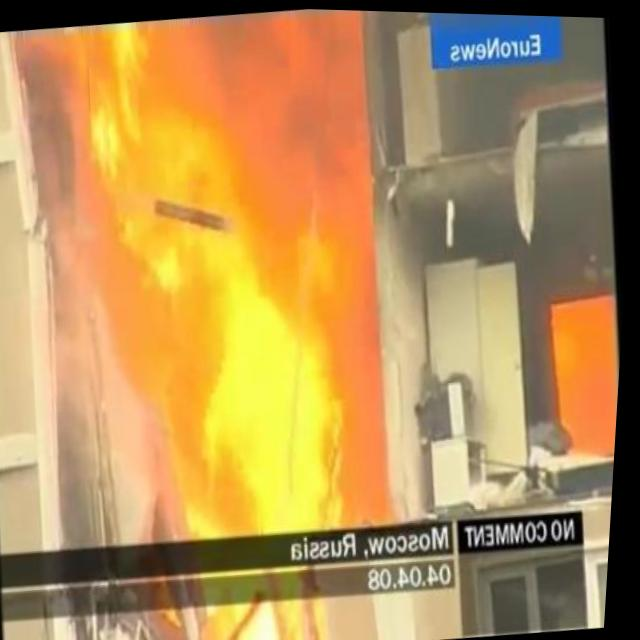fire: (0, 0, 420, 560), (549, 284, 627, 462)
